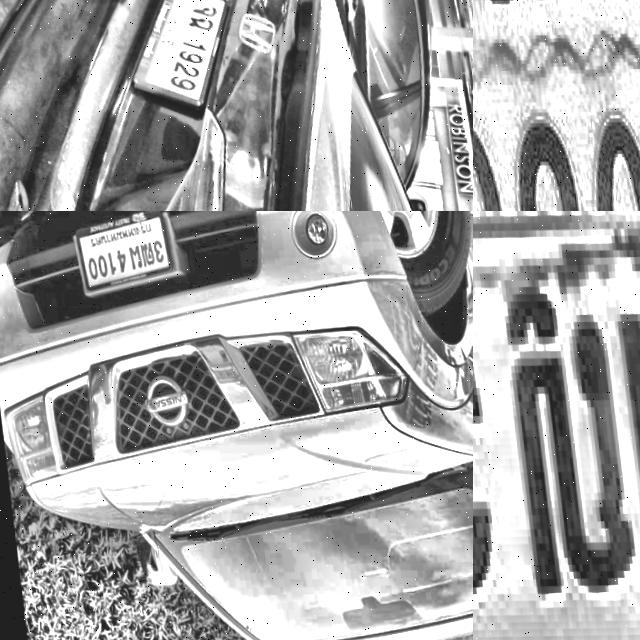license-plate: (473, 211, 640, 640), (473, 0, 640, 211), (64, 211, 181, 297)
